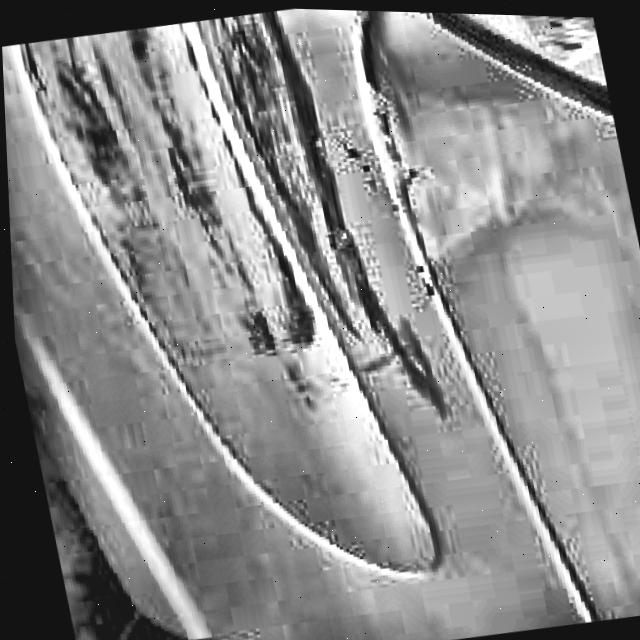bumper_scratch: (153, 13, 364, 365), (24, 31, 172, 212), (331, 107, 444, 315), (370, 315, 460, 437)
